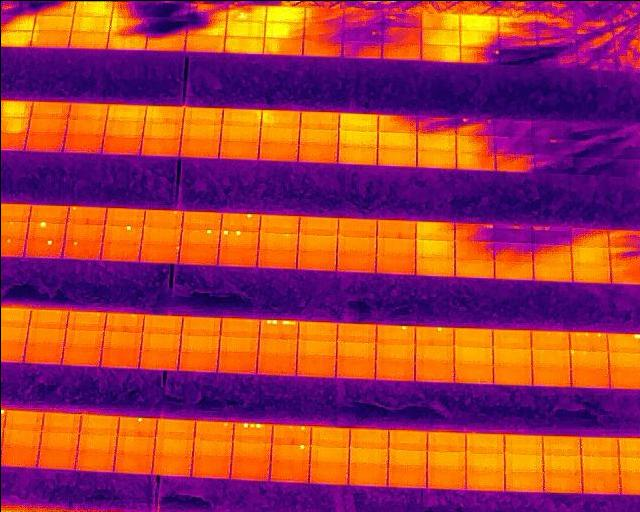Cell: (375, 324, 415, 343), (118, 416, 156, 436), (414, 326, 453, 345), (194, 420, 233, 439), (25, 238, 63, 257), (103, 225, 142, 243), (62, 241, 101, 259), (67, 205, 105, 223), (144, 210, 182, 228), (271, 444, 309, 462), (140, 244, 178, 262), (258, 232, 297, 249), (221, 213, 260, 230), (181, 227, 219, 244), (27, 221, 65, 238)
Cell-Multi: (272, 425, 310, 444), (454, 117, 494, 135), (570, 350, 608, 368), (569, 332, 607, 350), (233, 423, 271, 441), (220, 230, 259, 246)
No-Anomaly: (581, 471, 620, 494), (295, 354, 335, 376), (269, 459, 308, 481), (335, 357, 375, 378), (504, 470, 544, 491), (218, 244, 256, 266), (257, 353, 296, 374), (308, 462, 347, 483), (230, 459, 269, 480), (348, 464, 387, 485), (579, 436, 618, 457), (349, 427, 388, 448), (155, 417, 194, 438), (28, 29, 71, 48), (374, 360, 414, 380), (452, 327, 492, 347), (297, 143, 337, 163), (309, 427, 349, 447), (38, 431, 78, 451), (139, 350, 178, 370), (179, 351, 218, 371), (217, 352, 256, 372), (62, 345, 101, 365), (152, 455, 191, 475), (493, 364, 532, 384), (426, 468, 465, 488), (386, 466, 425, 486), (426, 431, 465, 451), (2, 429, 41, 449), (387, 429, 426, 449), (79, 414, 118, 434), (179, 244, 218, 264), (415, 238, 454, 258), (63, 134, 104, 153), (115, 453, 152, 474), (297, 321, 337, 340), (28, 309, 68, 328), (67, 310, 105, 330), (454, 258, 494, 277), (191, 457, 229, 477), (262, 36, 302, 55), (68, 31, 108, 50), (580, 454, 620, 473), (453, 363, 493, 382), (466, 469, 504, 489), (543, 472, 581, 492), (218, 141, 258, 160), (416, 149, 456, 168), (337, 145, 377, 164), (74, 452, 114, 471), (542, 435, 580, 455), (42, 412, 80, 432), (220, 317, 259, 336), (336, 323, 375, 342), (181, 316, 220, 335), (414, 362, 453, 381), (104, 313, 143, 332), (142, 314, 181, 333), (296, 250, 335, 269), (26, 326, 65, 345), (531, 348, 570, 367), (99, 348, 138, 367), (532, 262, 571, 281), (414, 343, 453, 362), (23, 345, 62, 364), (492, 329, 531, 348), (530, 330, 569, 349), (336, 253, 375, 272), (376, 255, 415, 274), (542, 454, 581, 473), (531, 367, 570, 386), (570, 369, 609, 388), (415, 220, 454, 239), (180, 138, 219, 157), (377, 147, 416, 166), (115, 435, 154, 454), (465, 452, 504, 471), (37, 449, 76, 468), (231, 440, 270, 459), (192, 439, 231, 458), (77, 433, 116, 452), (465, 433, 504, 452), (503, 434, 542, 453), (4, 410, 43, 429), (573, 263, 611, 282), (0, 447, 38, 466), (154, 437, 192, 456), (337, 113, 377, 131), (456, 152, 496, 170), (258, 142, 298, 160), (140, 138, 180, 156), (101, 136, 141, 154), (24, 134, 64, 152), (69, 14, 111, 31), (493, 261, 532, 279), (453, 346, 492, 364), (375, 342, 414, 360), (64, 329, 103, 347), (415, 257, 454, 275), (299, 111, 338, 129), (261, 109, 300, 127), (225, 35, 264, 53), (376, 237, 415, 255), (337, 236, 376, 254), (376, 219, 415, 237), (259, 214, 298, 232), (299, 216, 338, 234), (337, 218, 376, 236), (105, 207, 144, 225), (426, 450, 465, 468), (348, 447, 387, 465), (257, 249, 296, 267), (183, 34, 224, 51), (32, 14, 73, 31), (107, 31, 145, 49), (388, 448, 426, 466), (101, 243, 139, 261), (140, 333, 180, 350), (179, 335, 219, 352), (259, 126, 299, 143), (66, 118, 106, 135), (142, 121, 182, 138), (27, 117, 67, 134), (183, 107, 223, 124), (29, 101, 69, 118), (67, 103, 107, 120), (420, 44, 460, 61), (308, 446, 348, 463), (492, 348, 531, 365), (218, 336, 257, 353), (336, 340, 375, 357), (297, 339, 336, 356), (101, 331, 140, 348), (181, 122, 220, 139), (420, 28, 459, 45), (459, 14, 498, 31), (420, 12, 459, 29), (382, 42, 421, 59), (141, 227, 180, 244), (298, 234, 337, 251), (65, 223, 104, 240), (182, 211, 221, 228), (416, 133, 455, 150), (377, 131, 416, 148), (504, 453, 543, 470), (102, 120, 143, 136), (104, 105, 145, 121), (257, 338, 297, 354), (298, 128, 338, 144), (220, 125, 260, 141), (144, 106, 184, 122), (264, 22, 304, 38), (338, 130, 377, 146), (222, 109, 261, 125), (225, 20, 264, 36), (265, 6, 304, 22), (29, 204, 68, 220), (571, 247, 609, 263), (72, 0, 112, 15)
Shadowing: (530, 133, 572, 155), (530, 153, 573, 174), (572, 154, 614, 175), (143, 34, 186, 54), (571, 136, 613, 156), (493, 133, 533, 154), (145, 17, 186, 36), (108, 16, 148, 35), (492, 223, 532, 242), (453, 223, 493, 242), (499, 47, 538, 66), (535, 13, 574, 32), (494, 153, 533, 172), (459, 46, 500, 64), (415, 115, 455, 133), (341, 40, 381, 58), (531, 226, 571, 244), (454, 134, 494, 152), (377, 114, 416, 132), (302, 38, 341, 56), (342, 8, 381, 26), (492, 243, 531, 261), (454, 241, 493, 259), (570, 228, 608, 246), (533, 244, 571, 262), (459, 30, 499, 47), (535, 31, 575, 48), (381, 11, 421, 28), (109, 0, 149, 17), (226, 4, 266, 21), (492, 118, 531, 135), (497, 30, 536, 47), (303, 22, 342, 39), (184, 19, 225, 35), (497, 15, 535, 32), (341, 25, 381, 41), (381, 27, 421, 43), (303, 7, 342, 23), (35, 0, 75, 15)
Unclassified: (259, 320, 299, 339)
